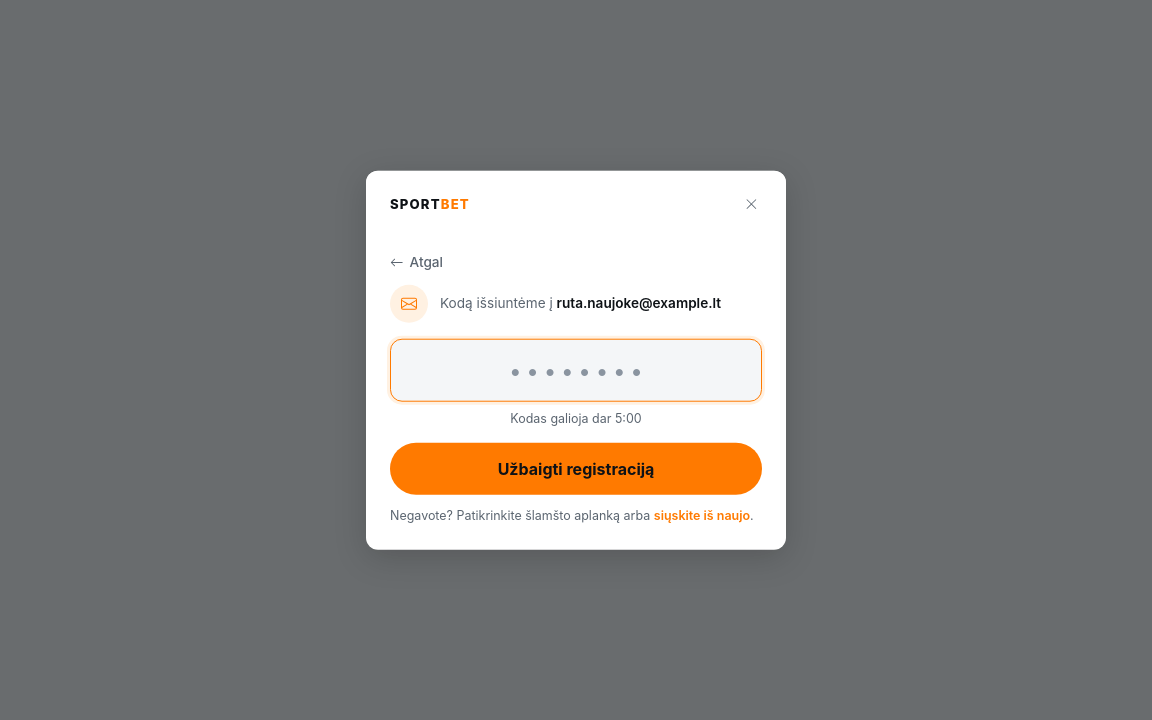
Test case: the register code step › confirms with the code typed, and shows the answer to a refused one
This screenshot has width=1152, height=720.
In the field named "8 skaitmenų kodas": (576, 370) [390, 338, 762, 402], type "01234567"
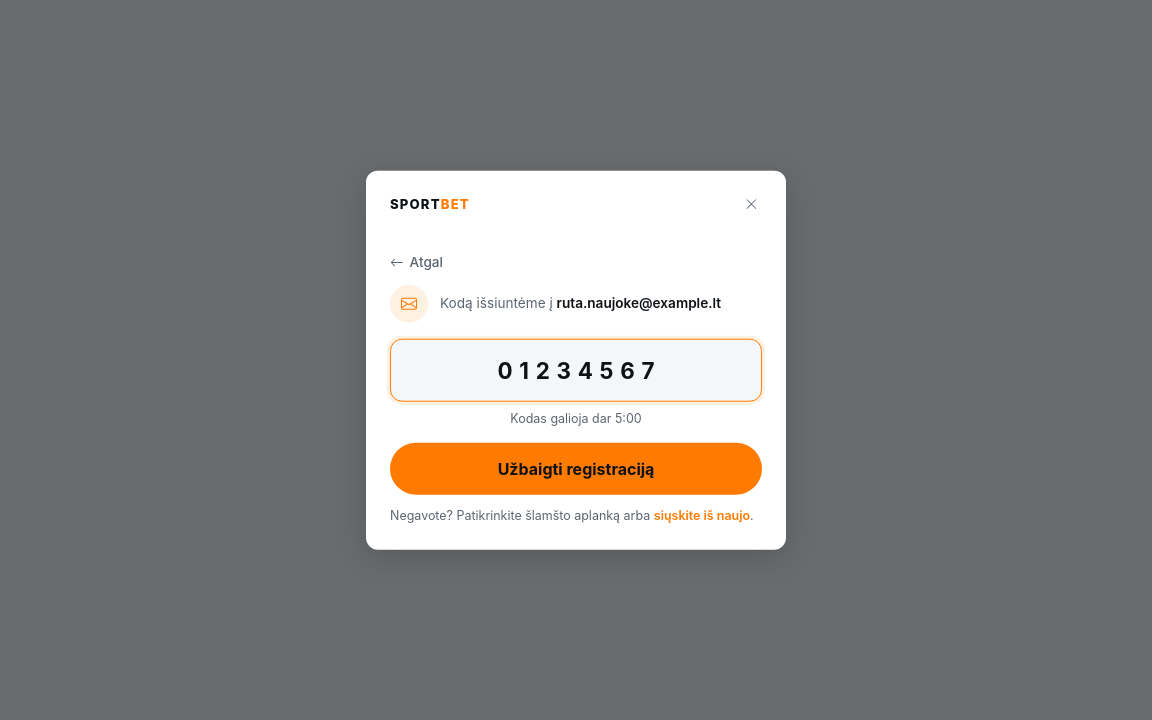
Click the button "Užbaigti registraciją": (576, 469) [390, 443, 762, 495]
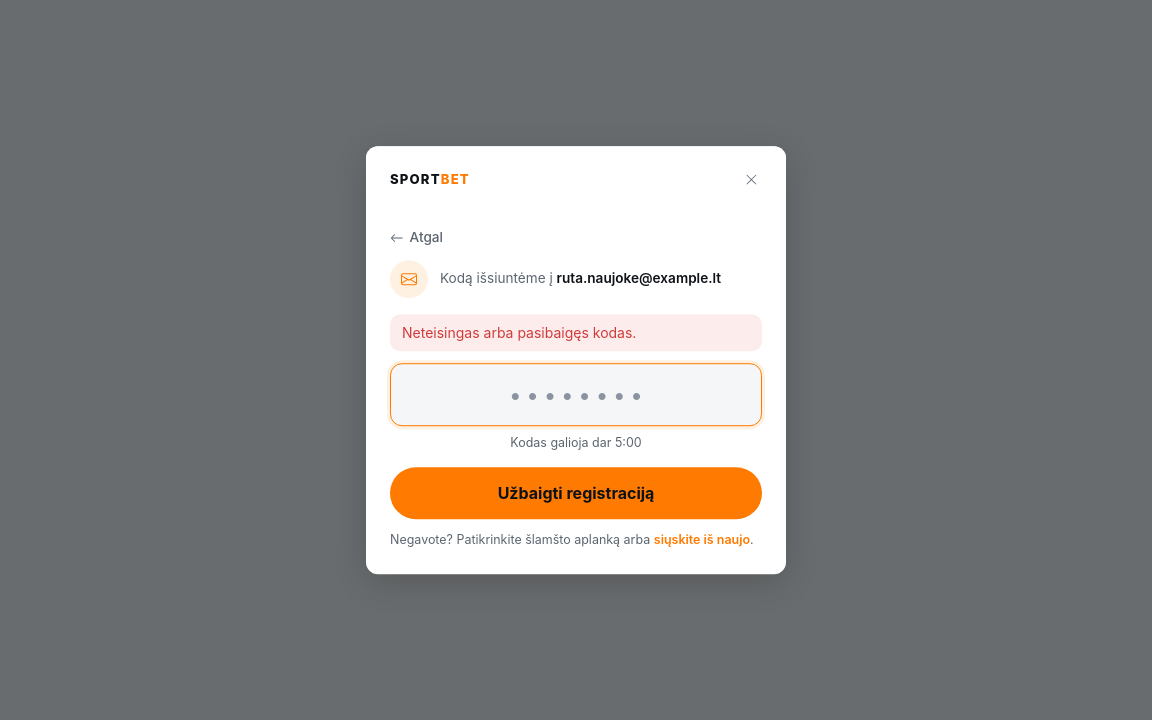
Expected: the message reads "Neteisingas arba pasibaigęs kodas.", [402, 324, 636, 341]
